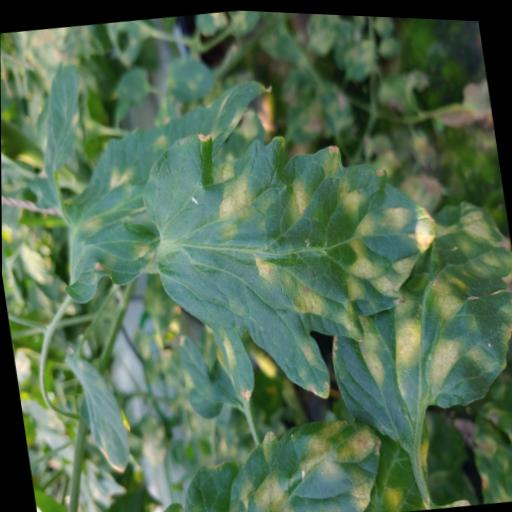Leaf Mold: (135, 106, 460, 420), (37, 68, 302, 314), (311, 183, 512, 459), (215, 404, 391, 512), (173, 327, 225, 424)
